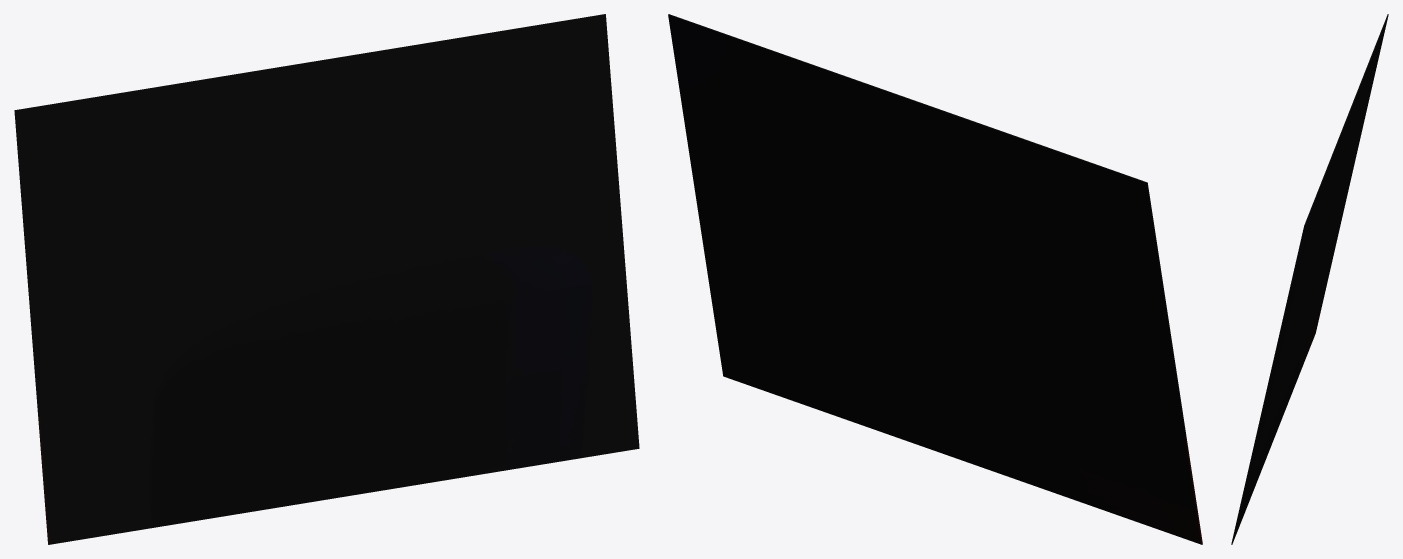
The model's file is monitor_screen.glb.
3 renders of one model, left to right at view 1: azimuth 30°, elevation 25°; view 2: azimuth 150°, elevation 25°; view 3: azimuth 270°, elevation 25°, orthographic. The views are drawn at different scales.
Visible parts, largest first — view 1: monitor_screen; view 2: monitor_screen; view 3: monitor_screen.
Boxes of the visible parts, x1,y1,x2,y2 form: monitor_screen: (14, 14, 639, 544); monitor_screen: (668, 14, 1202, 544); monitor_screen: (1231, 14, 1388, 544).
Bounding box in the file's own units: 1.56 × 1.09 × 0.4762.
1 material, 1 textured.
